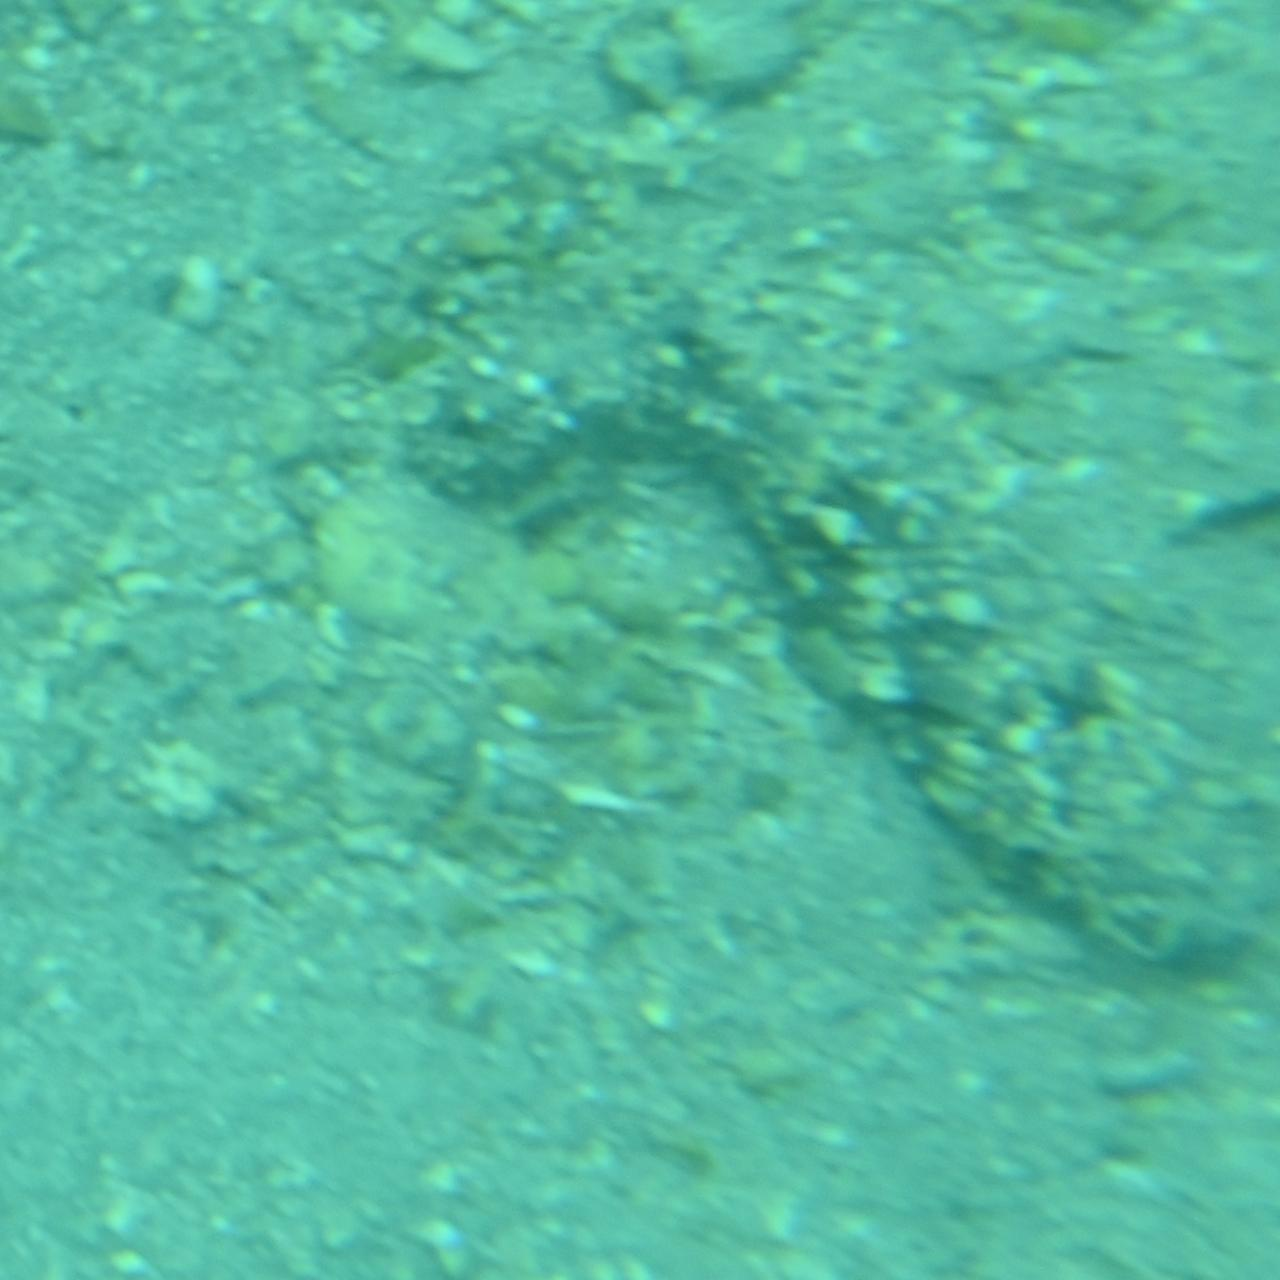Holothuria tubulosa: (392, 263, 1279, 1017)
